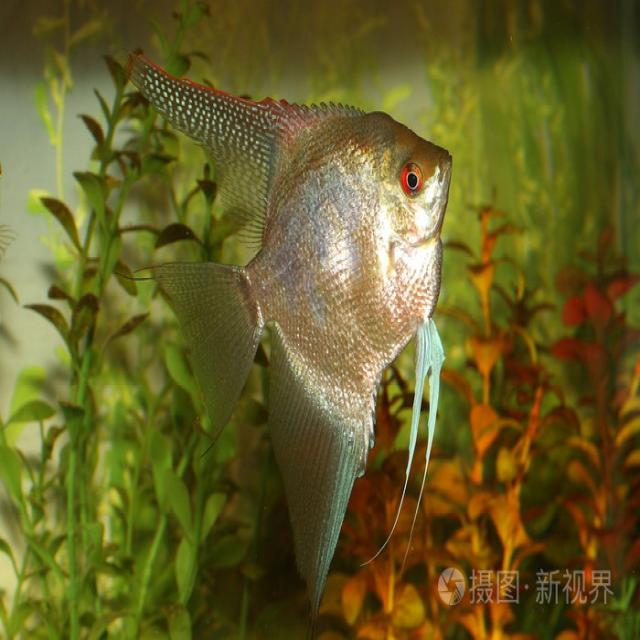AngelFish: (121, 47, 453, 624)
